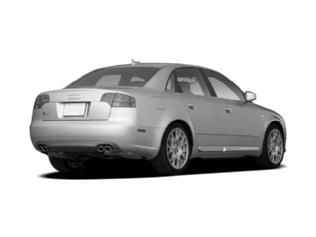car: (30, 59, 287, 177)
